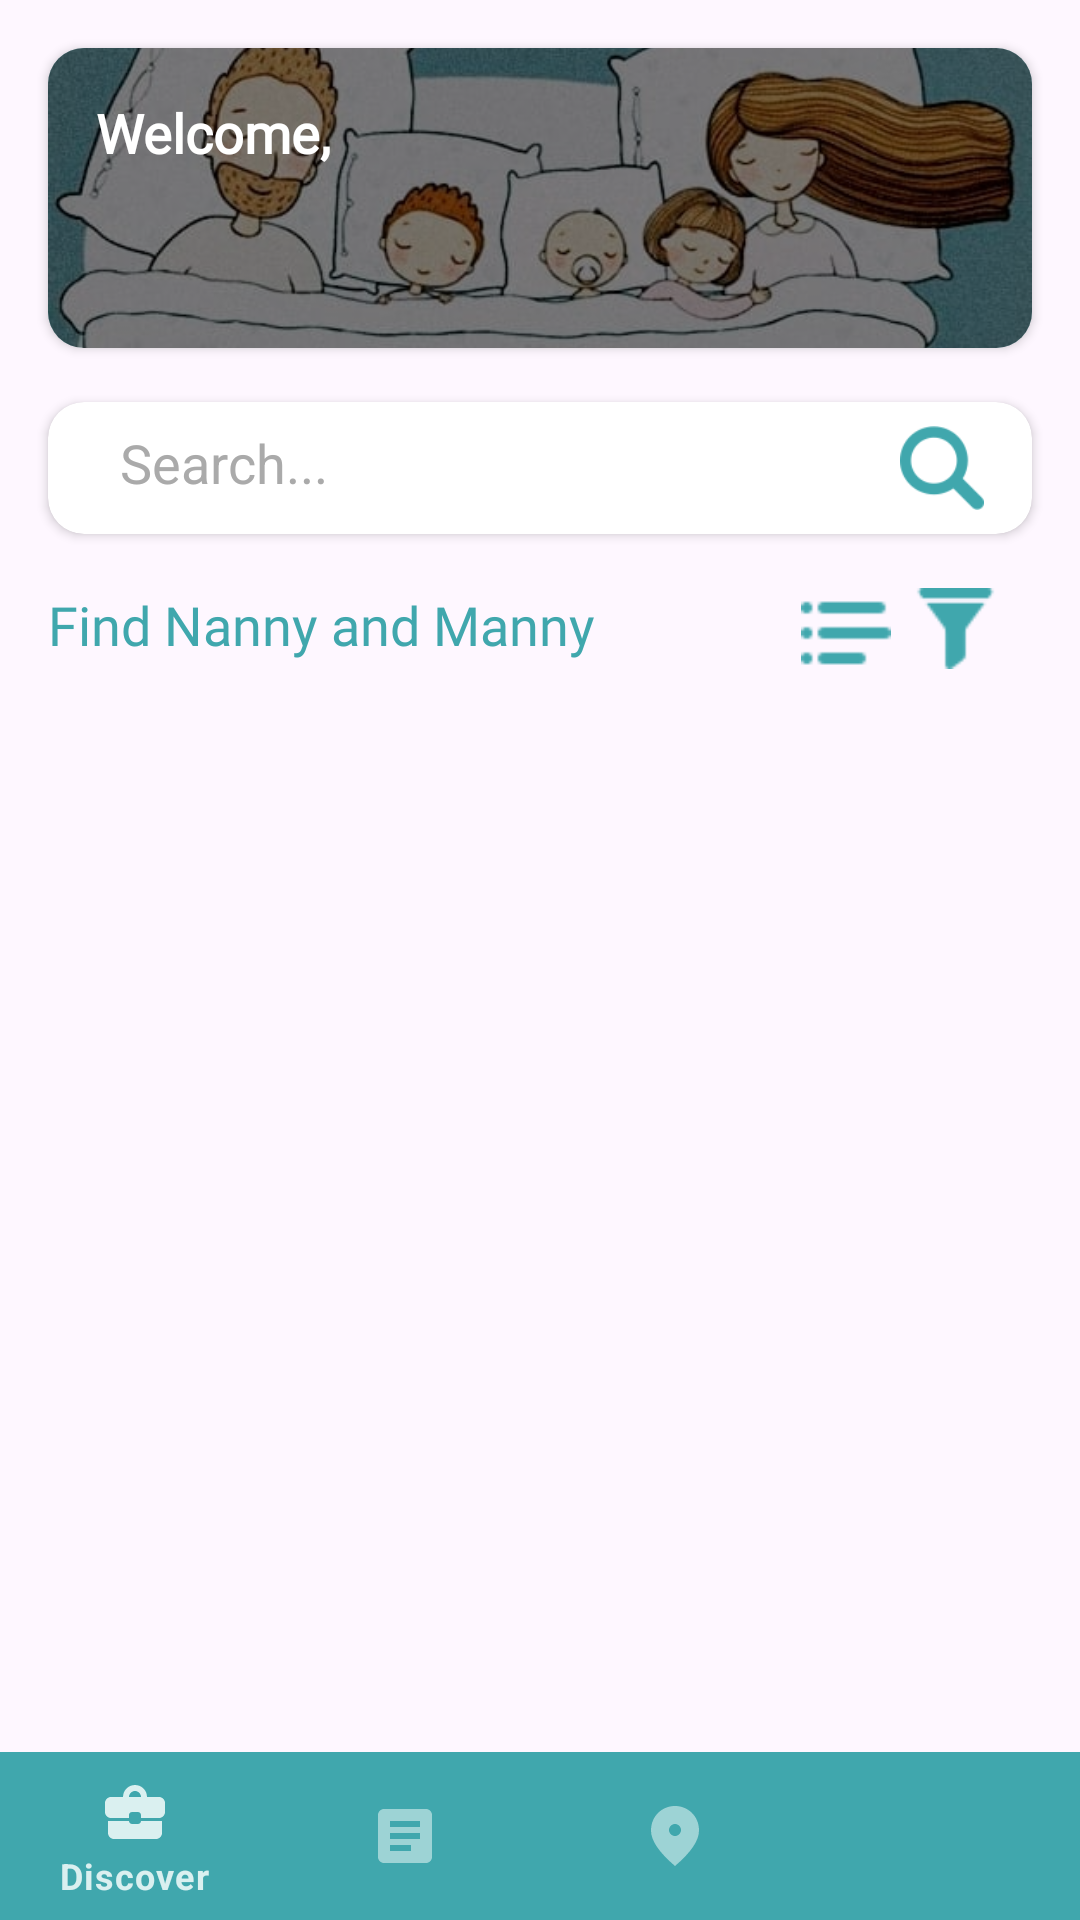

Named icons in this screenshot (1080 x 1920) and their bounding boxes, (x1, y1, x2, y2):
Filter: (917, 588, 994, 669)
